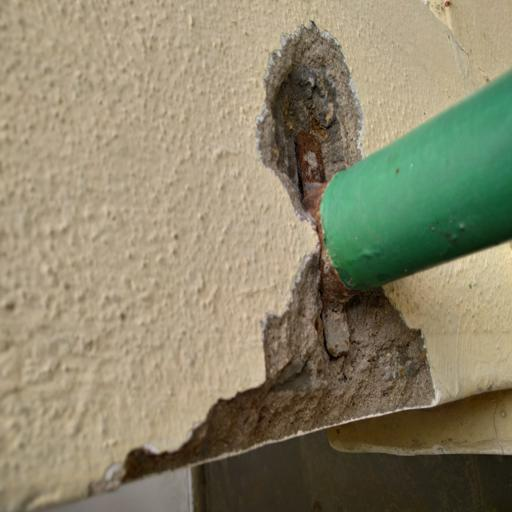spalling: (90, 261, 469, 474), (235, 16, 389, 215)
